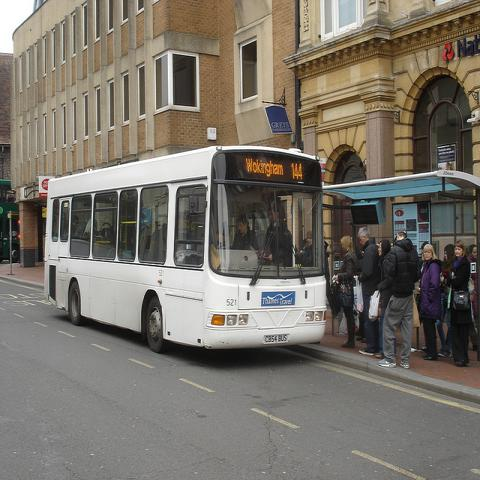bus: (45, 146, 324, 354)
